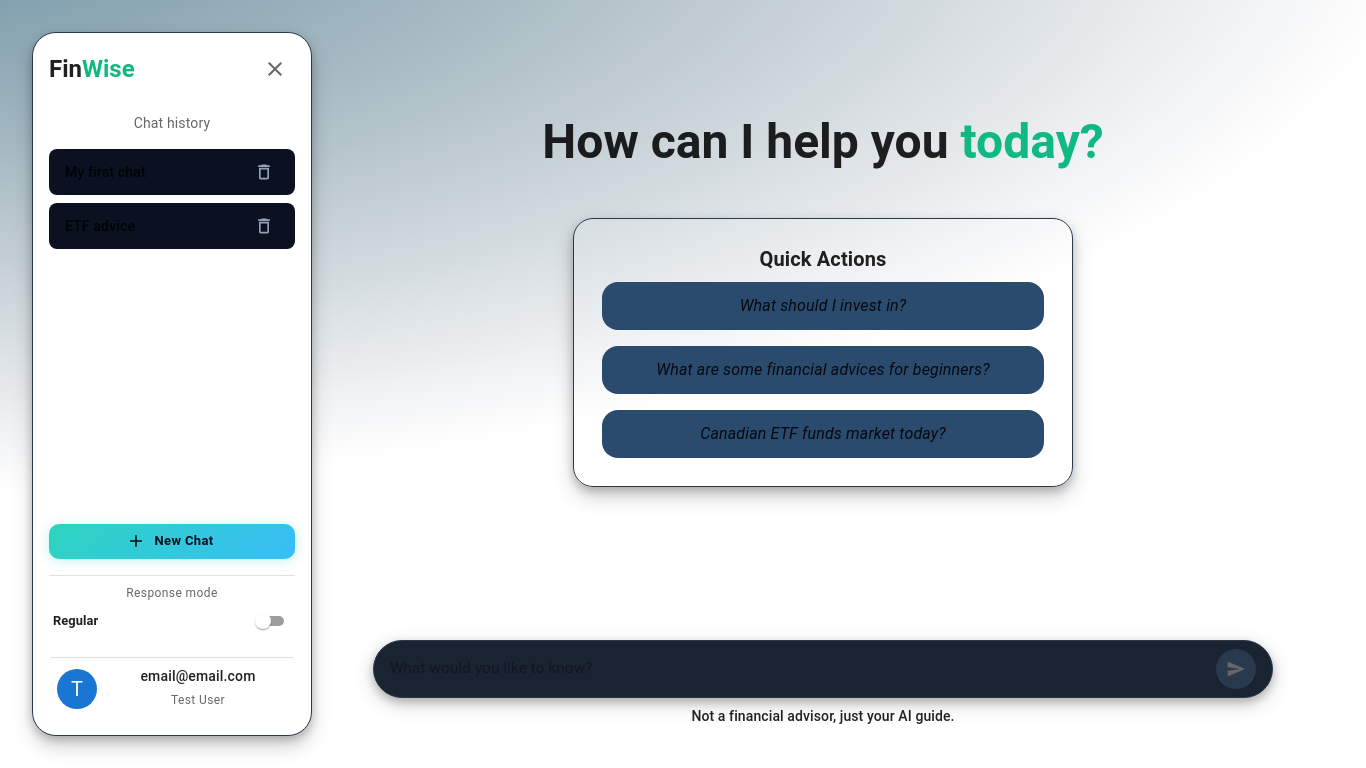
Test: Chat Flow Integration › loads a previous chat session by clicking on the sidebar
Click the text "ETF advice" at (100, 226), box [65,218,135,234]
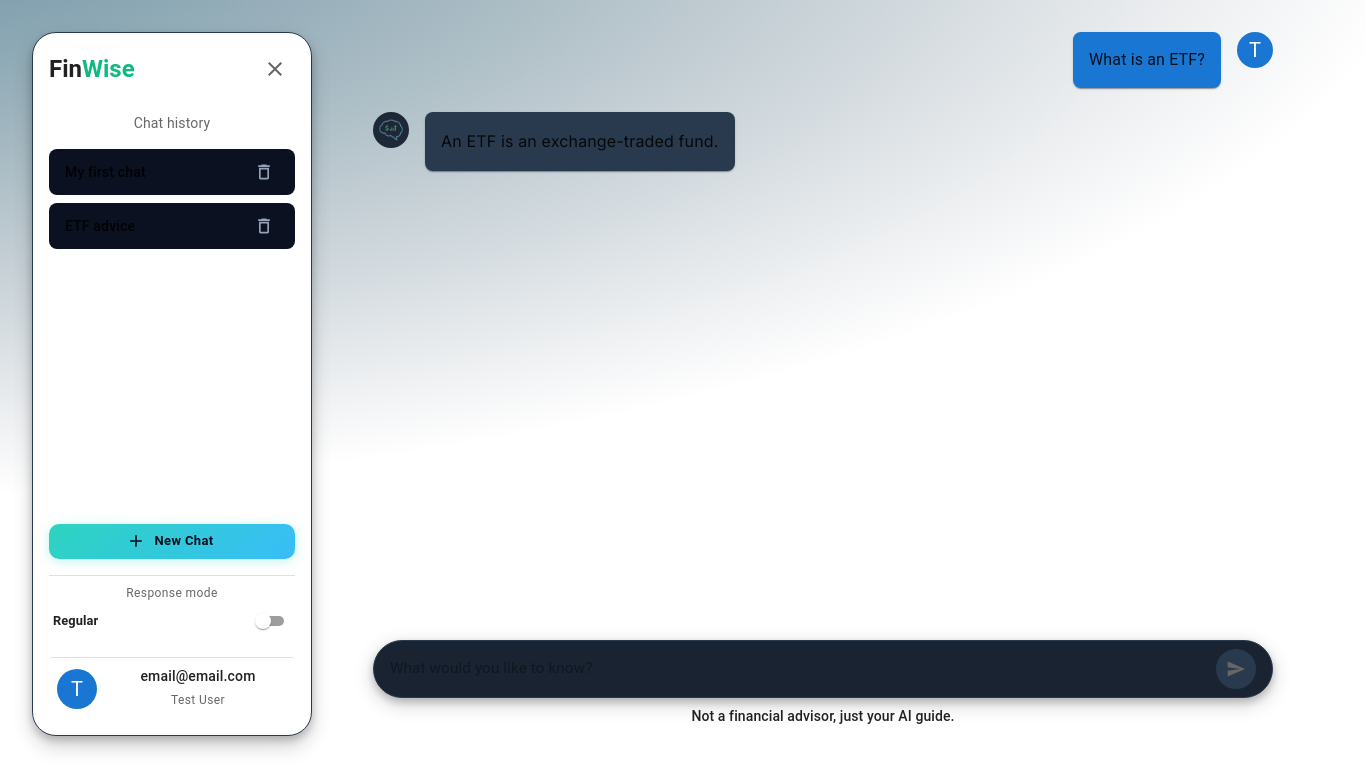
Check: the text "What is an ETF?" is shown, box [1089,48,1205,72]
Check: the text "An ETF is an exchange-traded fund." is shown, box [441,128,718,155]
Check: the heading "How can I help you" is gone
